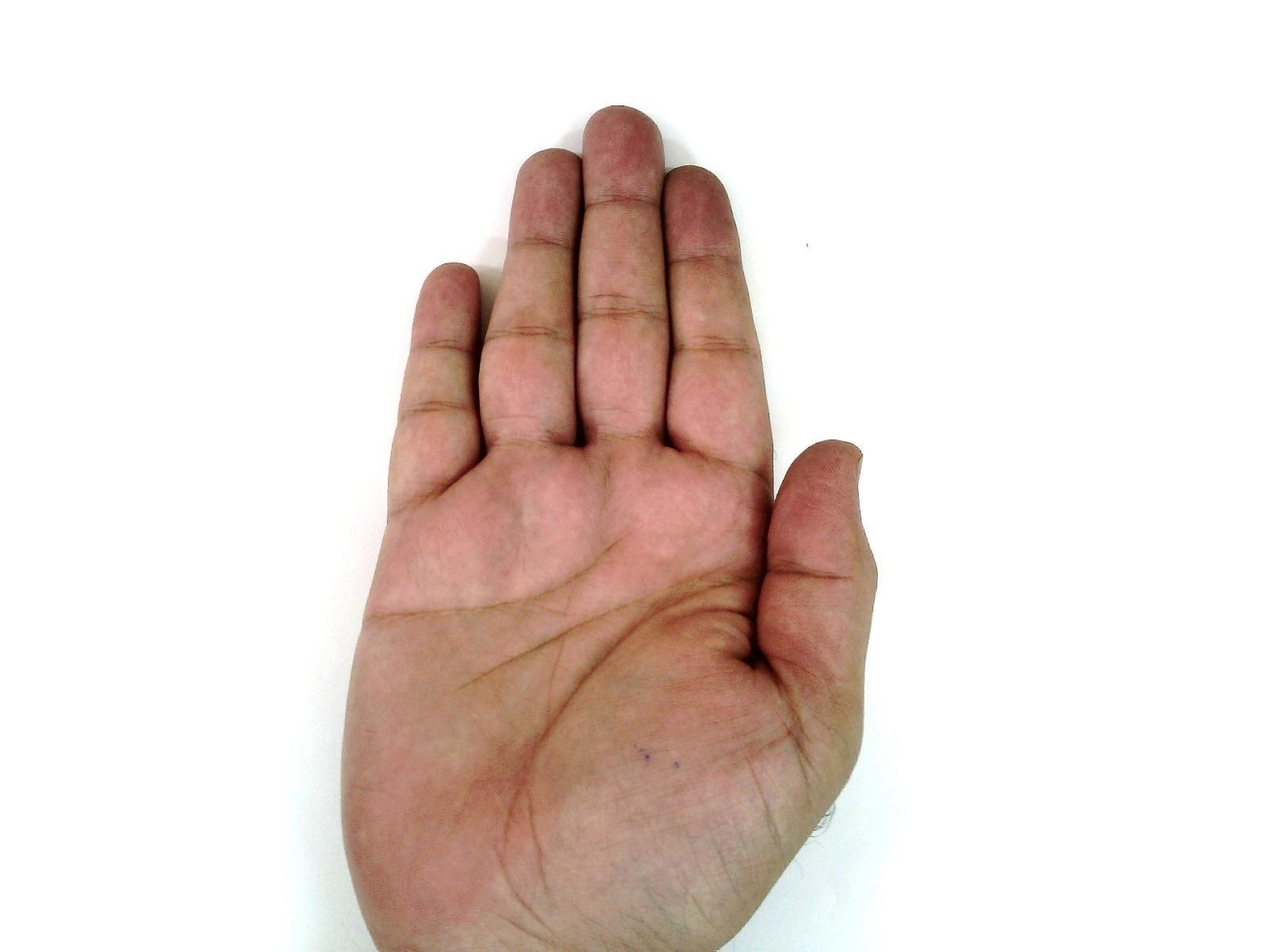open_palm: (336, 105, 881, 951)
